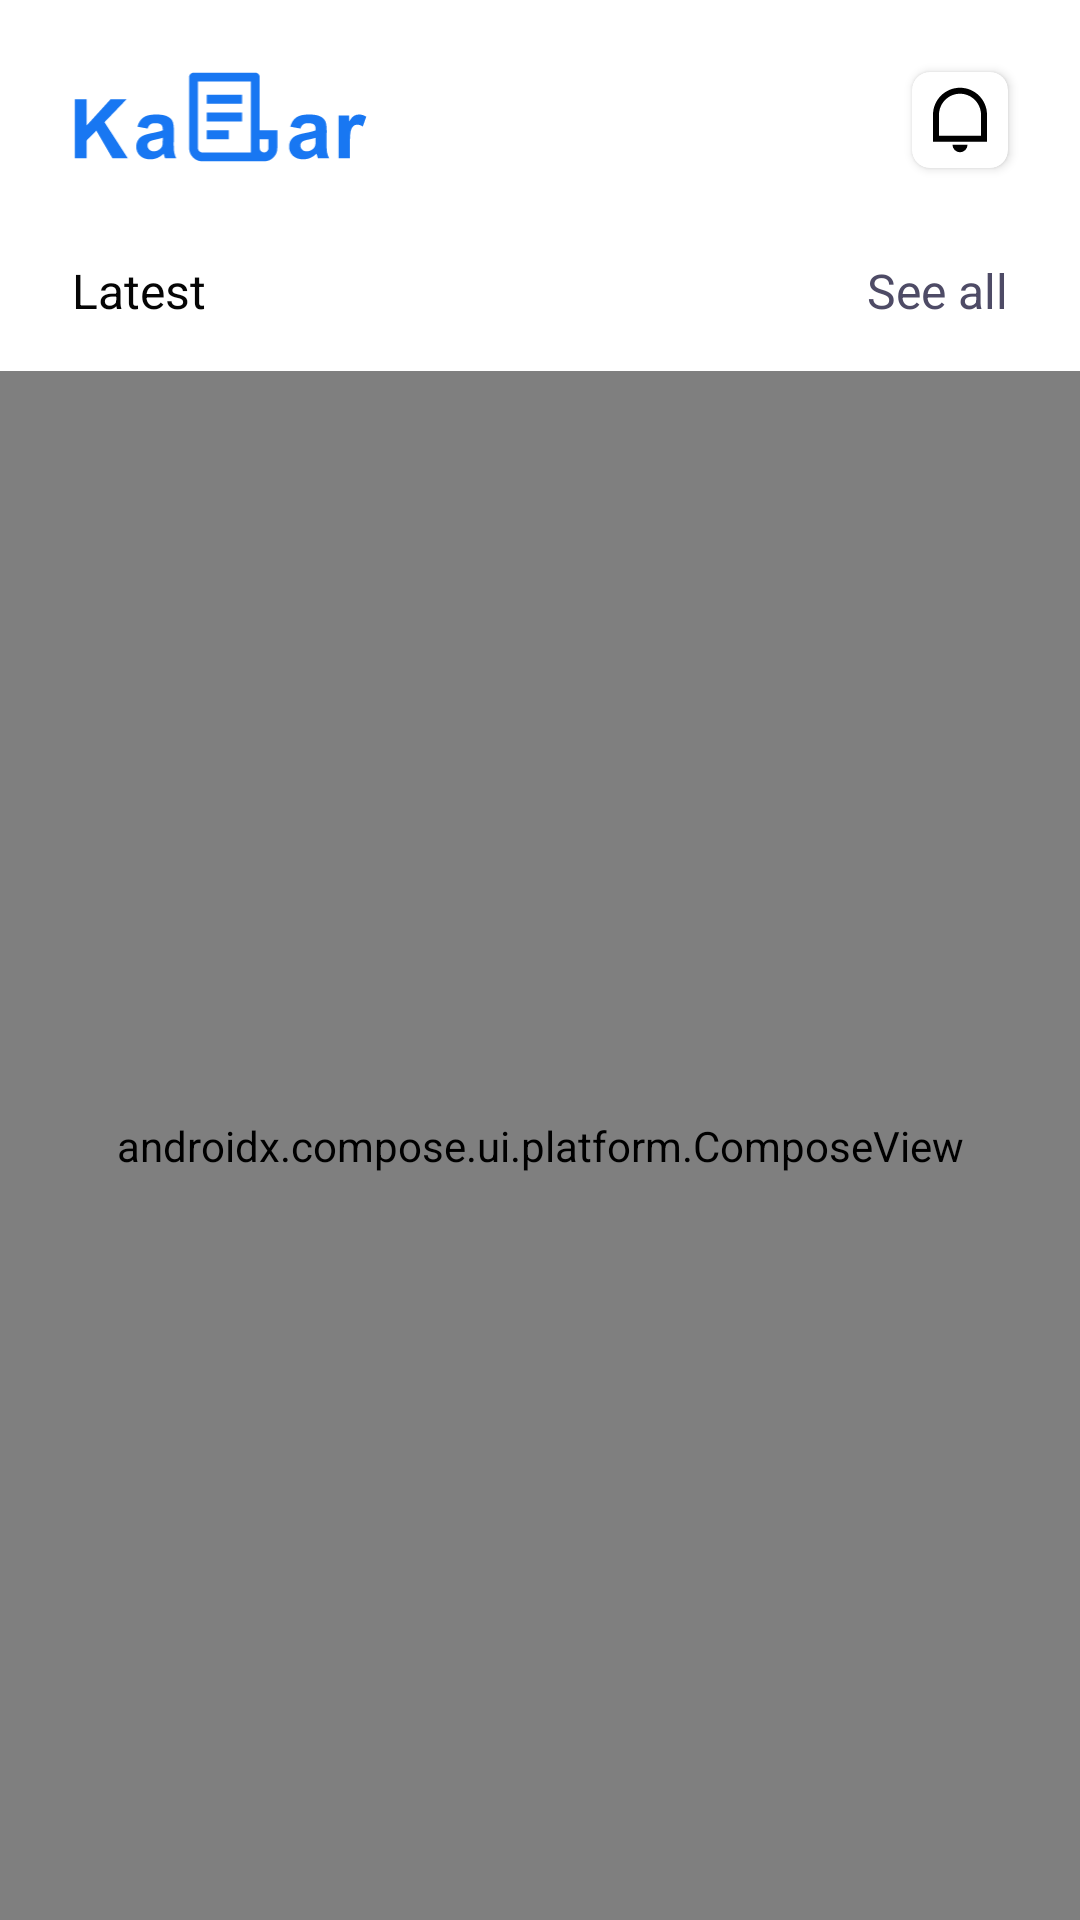

Where to tap for icons on this 1080px x 1920px app screen, as (x,y):
notification: (960,120)
